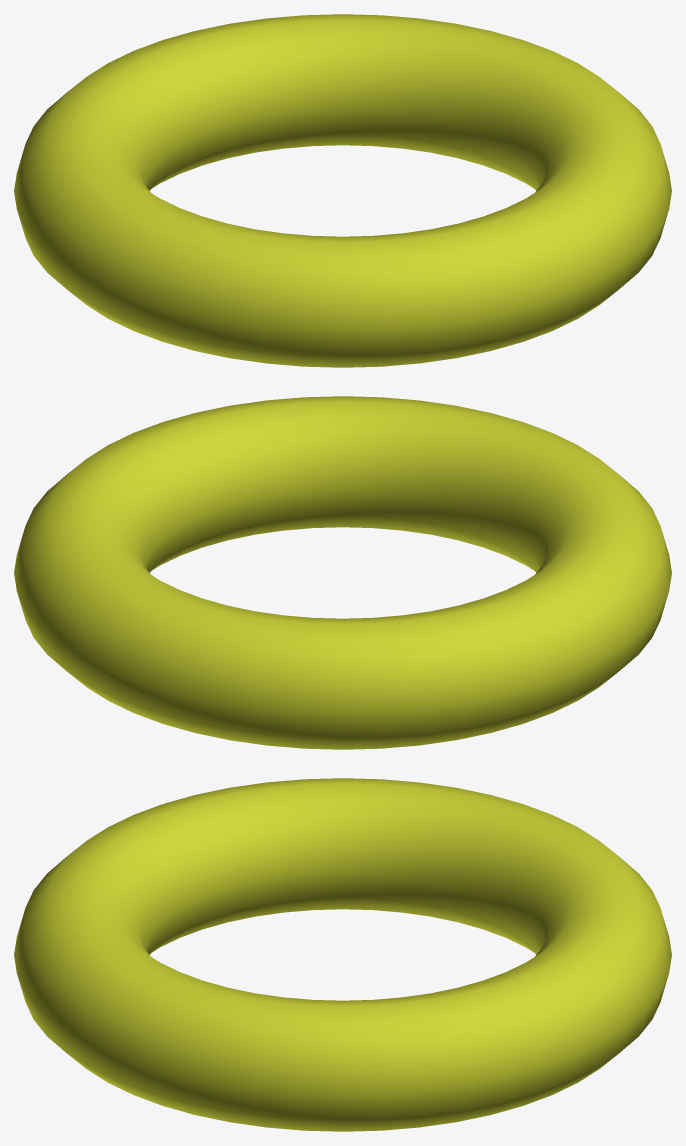
3 views of the same model, one above another, from view 1: azimuth 30°, elevation 25°; view 2: azimuth 150°, elevation 25°; view 3: azimuth 270°, elevation 25° (orthographic).
Visible parts, largest first — view 1: Torus; view 2: Torus; view 3: Torus.
Part boxes in pixels (left/top/right/bottom): Torus: left=14, top=14, right=671, bottom=367; Torus: left=14, top=396, right=671, bottom=749; Torus: left=14, top=778, right=671, bottom=1131.
Bounding box in the file's own units: 2.5 × 0.5 × 2.5.
